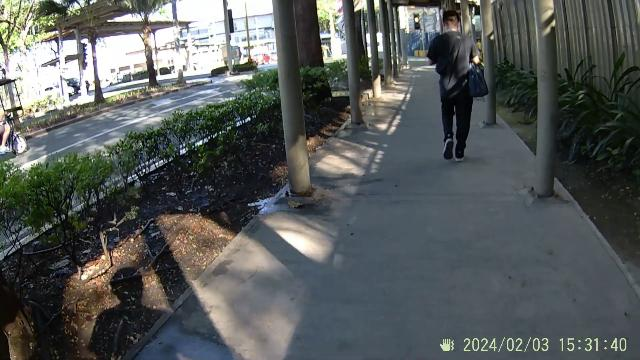utility_post: (270, 1, 320, 205), (529, 0, 559, 198), (338, 1, 370, 128)
